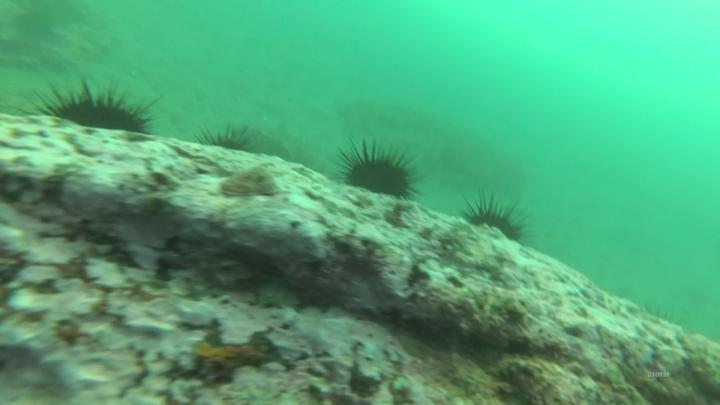echinus: (39, 90, 163, 137), (337, 144, 415, 209)
